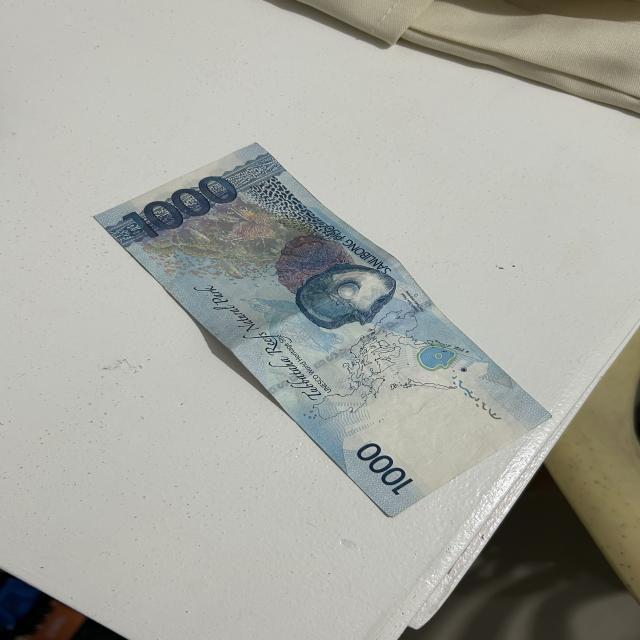1000_pearl: (298, 269, 392, 320)
1000_pearl_watermark: (415, 346, 460, 374)
